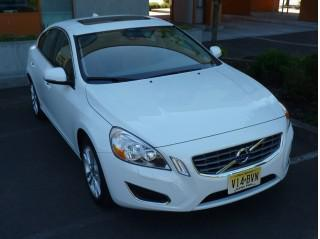volvo: (227, 144, 255, 171)
